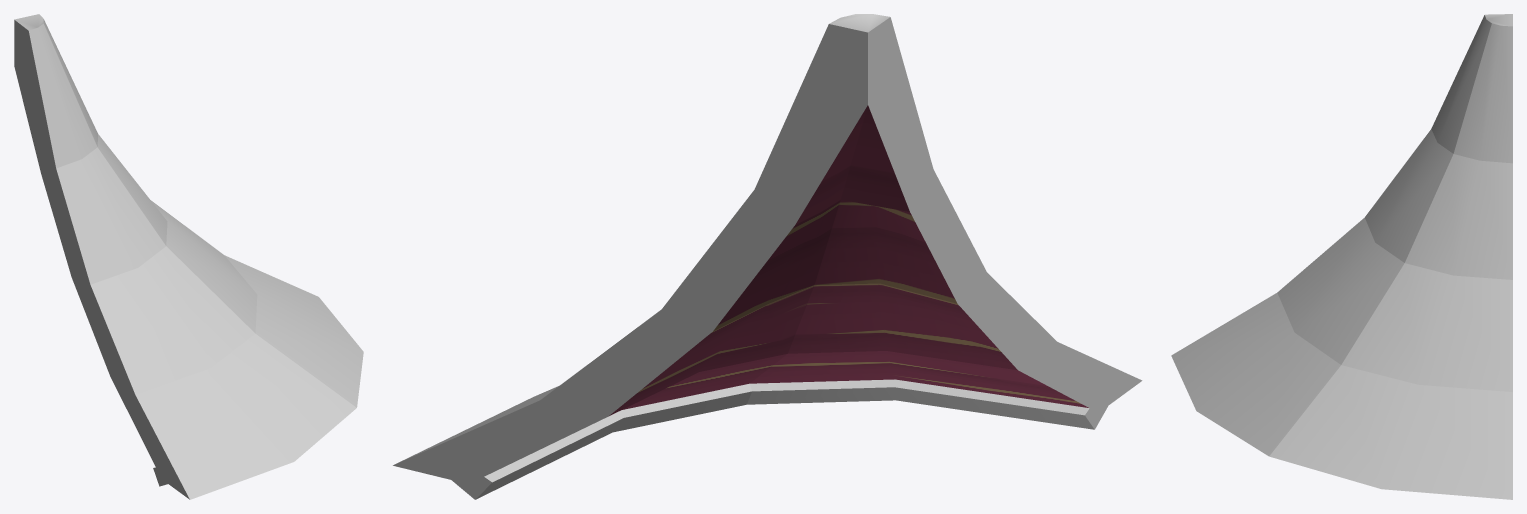
The model's file is SM_Bld_Roof_S_Concave_Corner_Out_02.fbx.
The picture shows the model from 3 angles, left to right: view 1: azimuth 30°, elevation 25°; view 2: azimuth 150°, elevation 25°; view 3: azimuth 270°, elevation 25°; orthographic projection. The views are drawn at different scales.
Parts seen in each view (by area): view 1: SM_Bld_Roof_S_Concave_Corner_Out_02; view 2: SM_Bld_Roof_S_Concave_Corner_Out_02; view 3: SM_Bld_Roof_S_Concave_Corner_Out_02.
Boxes of the visible parts, x1=… form: SM_Bld_Roof_S_Concave_Corner_Out_02: x1=14, y1=14, x2=363, y2=499; SM_Bld_Roof_S_Concave_Corner_Out_02: x1=393, y1=14, x2=1142, y2=499; SM_Bld_Roof_S_Concave_Corner_Out_02: x1=1171, y1=14, x2=1512, y2=499.
Size of the model in its own units: 136 by 154 by 136.
